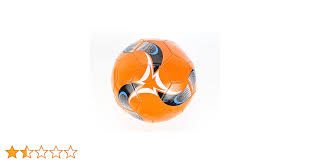football ball: (103, 36, 204, 125)
